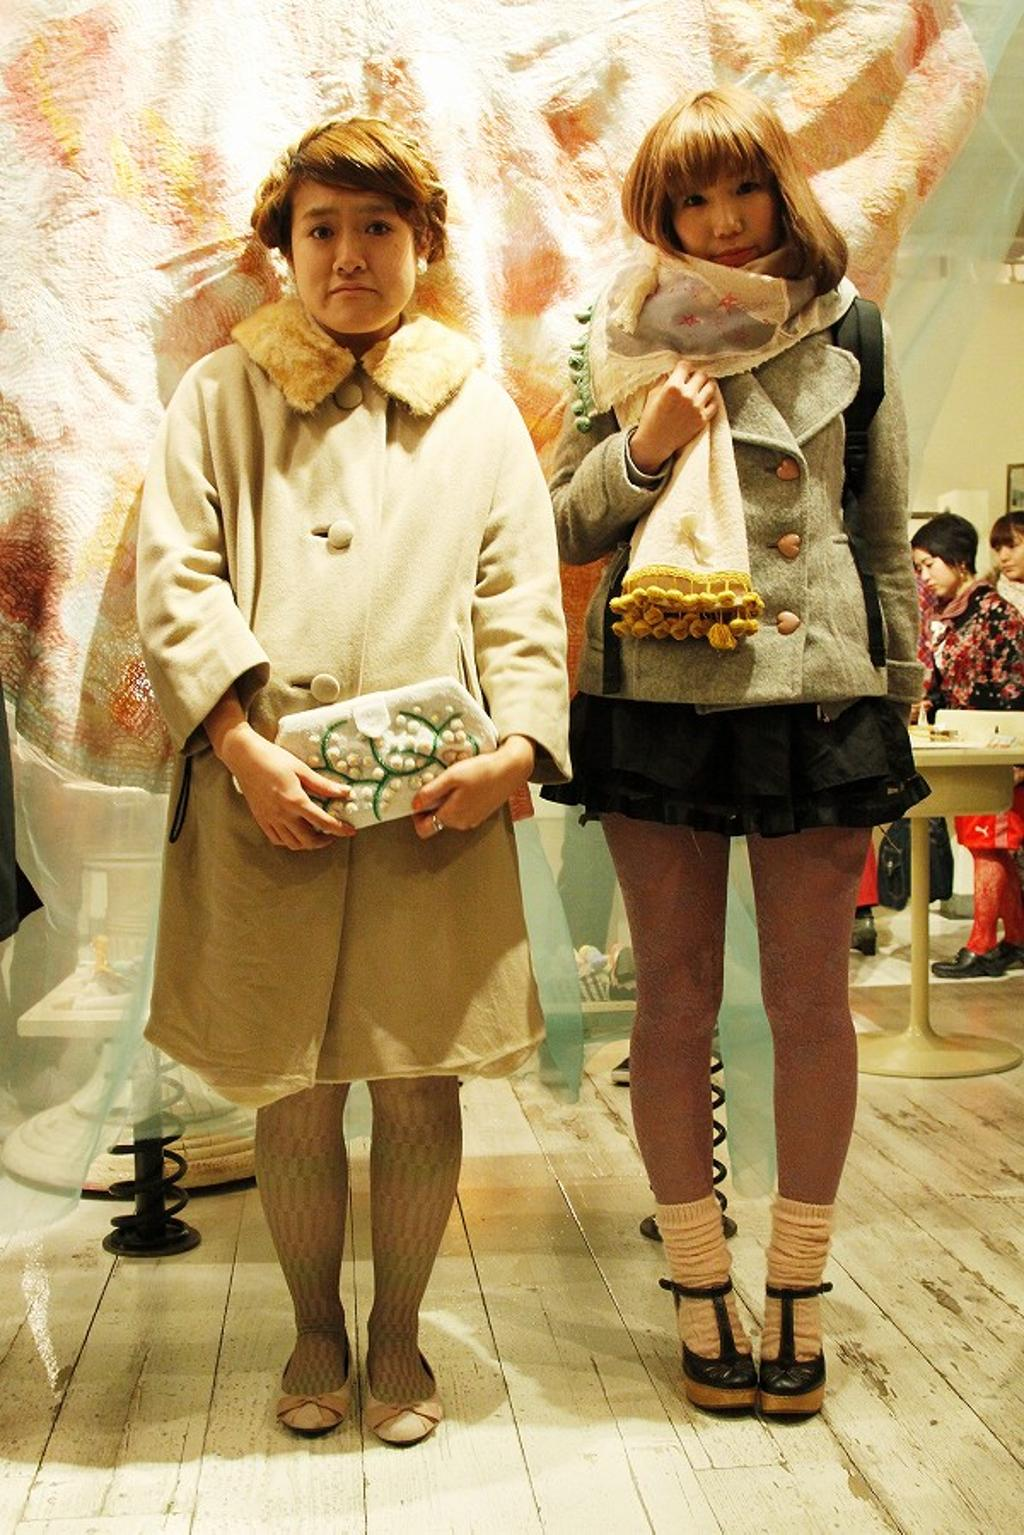face: (293, 184, 416, 333), (673, 160, 774, 281), (913, 548, 958, 597), (993, 530, 1023, 580)
